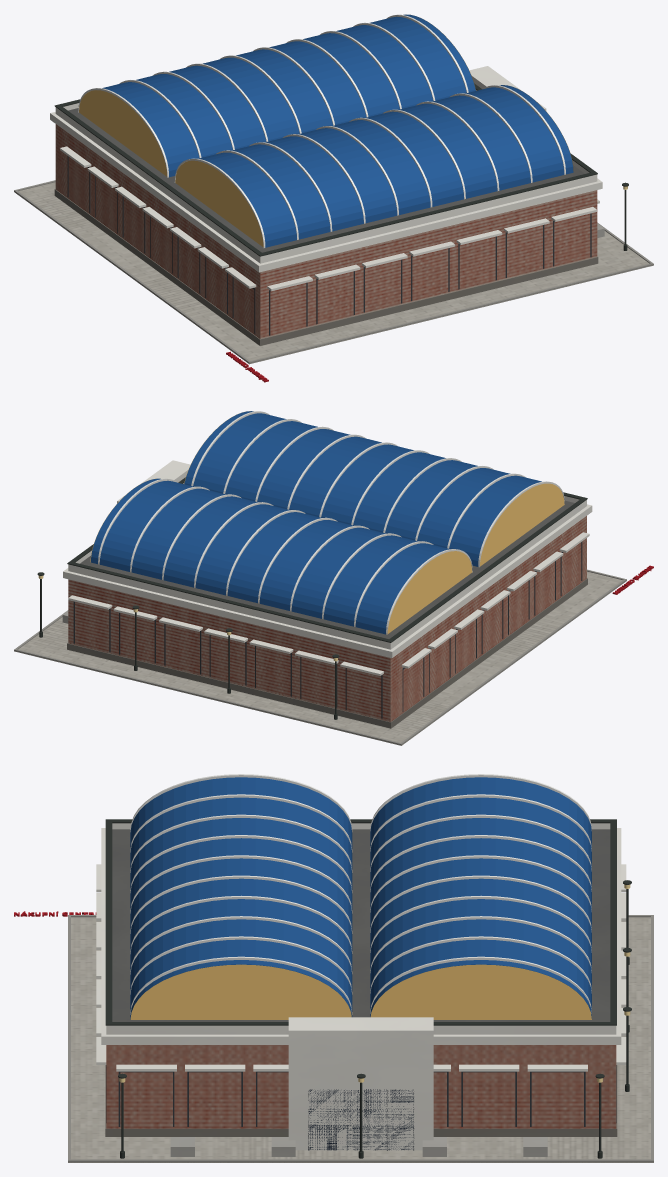
The model's file is dum_28_obchodni_stredisko.glb.
3 views of the same model, one above another, from view 1: azimuth 30°, elevation 25°; view 2: azimuth 150°, elevation 25°; view 3: azimuth 270°, elevation 25° (orthographic). The views are drawn at different scales.
Visible parts, largest first — view 1: dum, noc; view 2: dum, noc; view 3: dum, noc.
Part boxes in pixels (x1,y1,x2,y2): dum: (14,14,653,382); noc: (79,14,627,247); dum: (14,411,653,745); noc: (38,411,564,661); dum: (14,774,653,1162); noc: (119,884,629,1082).
Size of the model in its own units: 29.34 by 9.17 by 31.68.
1 material, 1 textured.
